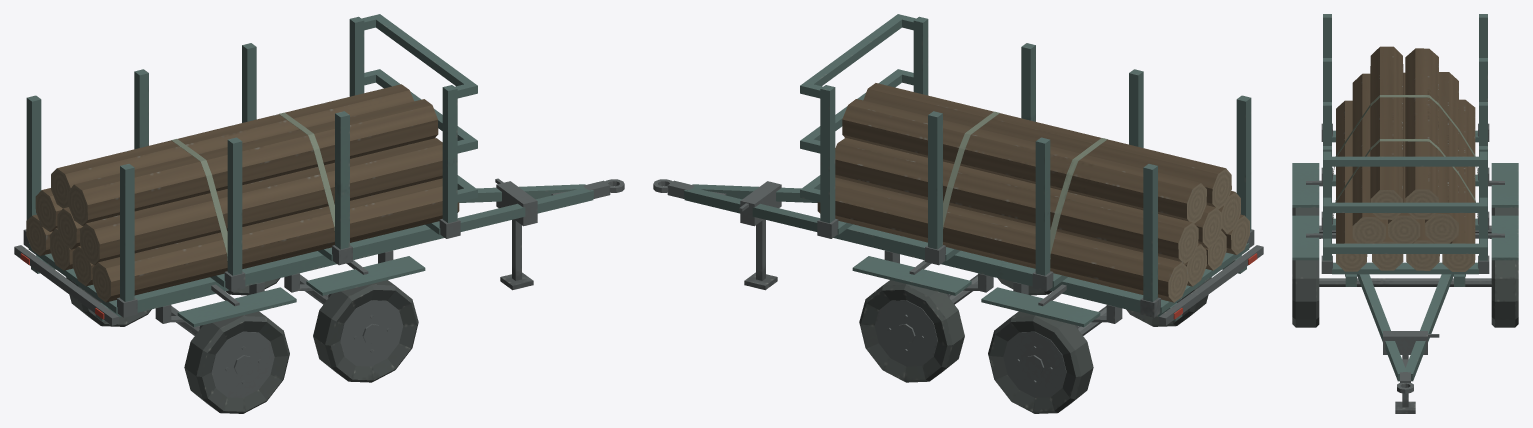
Rendered from forest_logging_trailer_loaded.glb.
The picture shows the model from 3 angles, left to right: view 1: azimuth 30°, elevation 25°; view 2: azimuth 150°, elevation 25°; view 3: azimuth 270°, elevation 25°; orthographic projection. The views are drawn at different scales.
Visible parts, largest first — view 1: LoggingTrailerLoaded; view 2: LoggingTrailerLoaded; view 3: LoggingTrailerLoaded.
Part boxes in pixels (x1,y1,x2,y2): LoggingTrailerLoaded: [14, 14, 624, 413]; LoggingTrailerLoaded: [653, 14, 1263, 413]; LoggingTrailerLoaded: [1292, 14, 1518, 413].
Size of what is drawn, in the model's own units: 4.8 by 2.1 by 2.
1 material, 1 textured.
